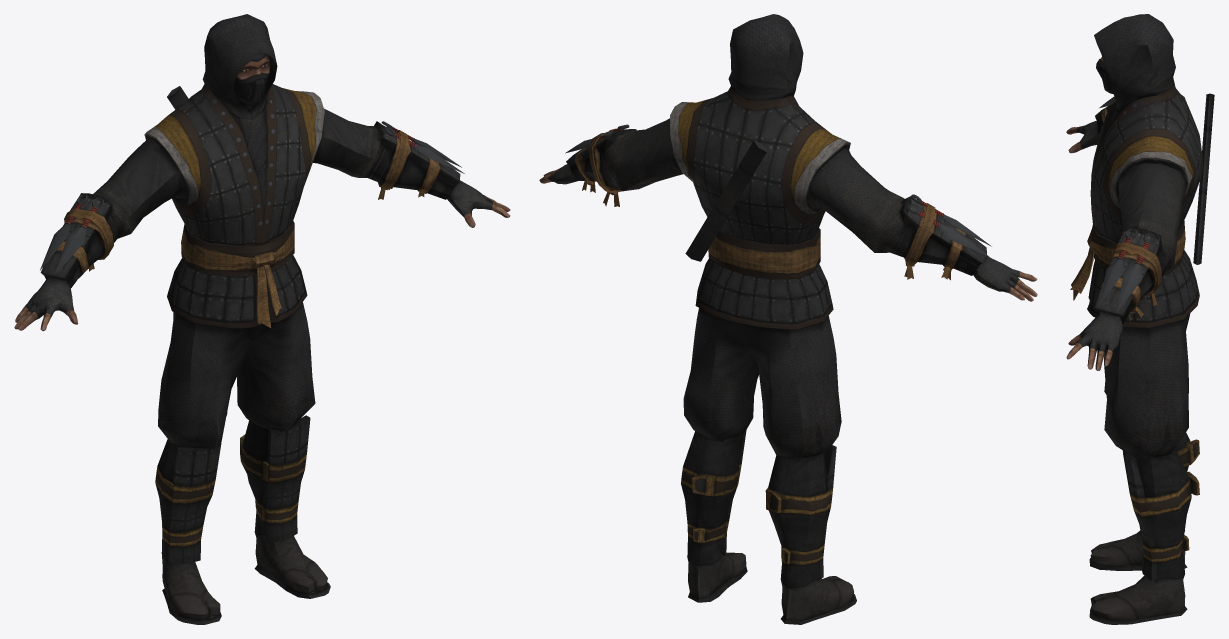
Rendered from Shirai_Ryu.fbx.
3 views of the same model, side by side, from view 1: azimuth 30°, elevation 25°; view 2: azimuth 150°, elevation 25°; view 3: azimuth 270°, elevation 25° (orthographic).
Parts seen in each view (by area): view 1: Object_2; view 2: Object_2; view 3: Object_2.
Boxes of the visible parts, <box> form: Object_2: <box>14,14,510,624</box>; Object_2: <box>539,14,1037,624</box>; Object_2: <box>1066,14,1214,624</box>.
Size of the model in its own units: 188 by 210 by 49.33.
Materials: 1 (1 with a texture image).
